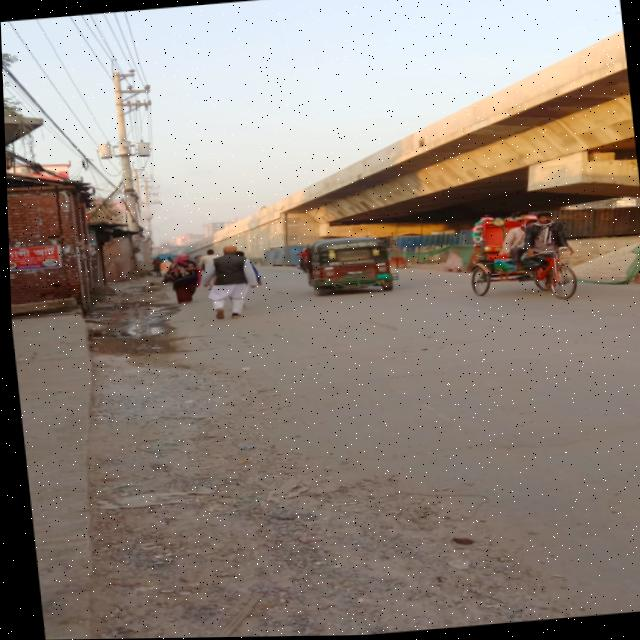cng: (287, 217, 424, 322)
